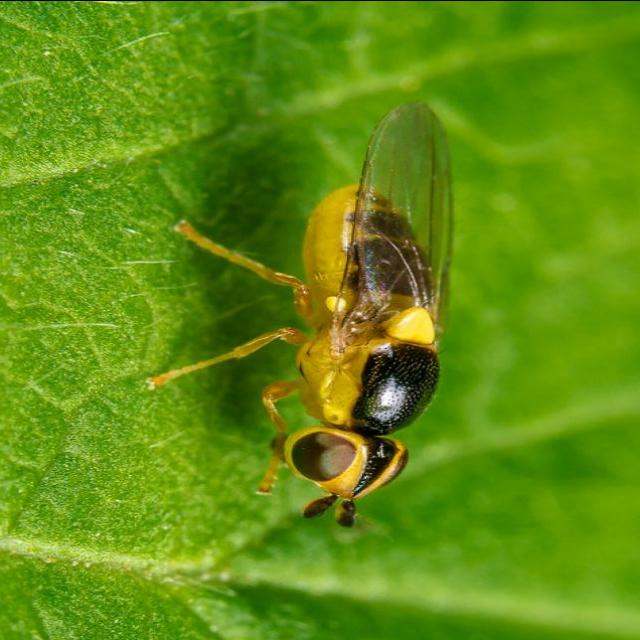Serpentine leafminer: (138, 86, 463, 534)
